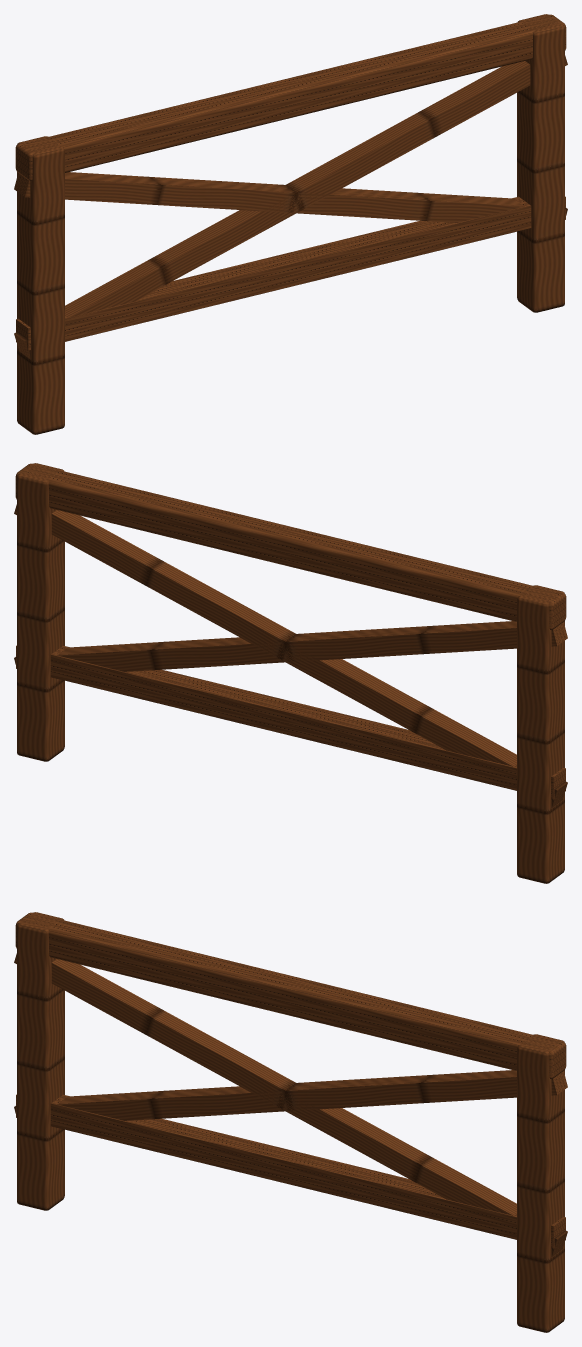
File: modular-survival-base-builder-cross-braced-guardrail-6e66c891__24230.glb
3 renders of one model, top to bottom at view 1: azimuth 30°, elevation 25°; view 2: azimuth 150°, elevation 25°; view 3: azimuth 330°, elevation 25°, orthographic.
Parts seen in each view (by area): view 1: cross-braced-guardrail; view 2: cross-braced-guardrail; view 3: cross-braced-guardrail.
Boxes of the visible parts, x1,y1,x2,y2 form: cross-braced-guardrail: (14,14,567,434); cross-braced-guardrail: (14,463,567,883); cross-braced-guardrail: (14,912,567,1332).
Bounding box in the file's own units: 2.02 × 1 × 0.1201.
1 material, 1 textured.
